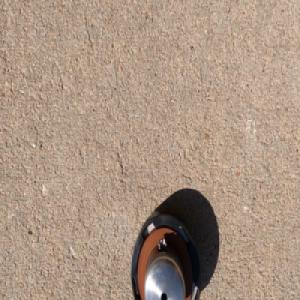FuelCap: (127, 205, 201, 300)
